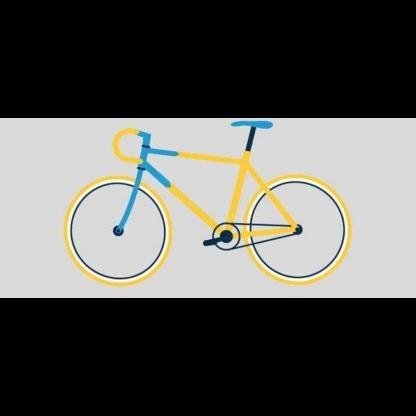Bicycle: (52, 116, 360, 292)
